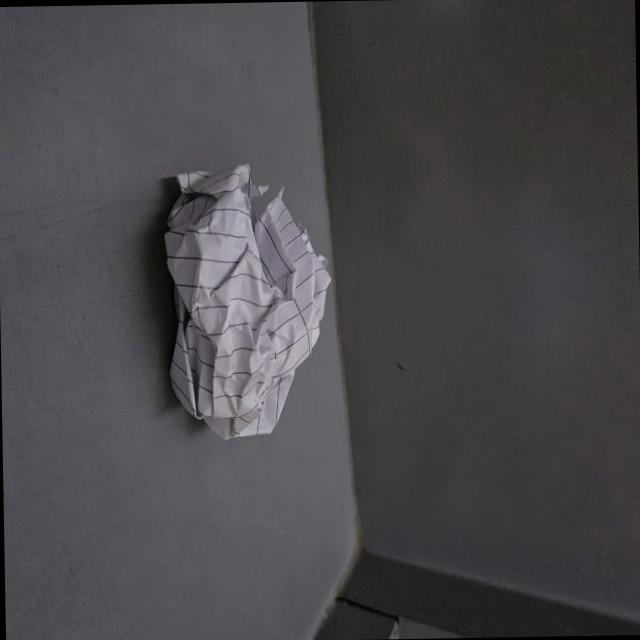cardboard paper: (166, 162, 331, 436)
